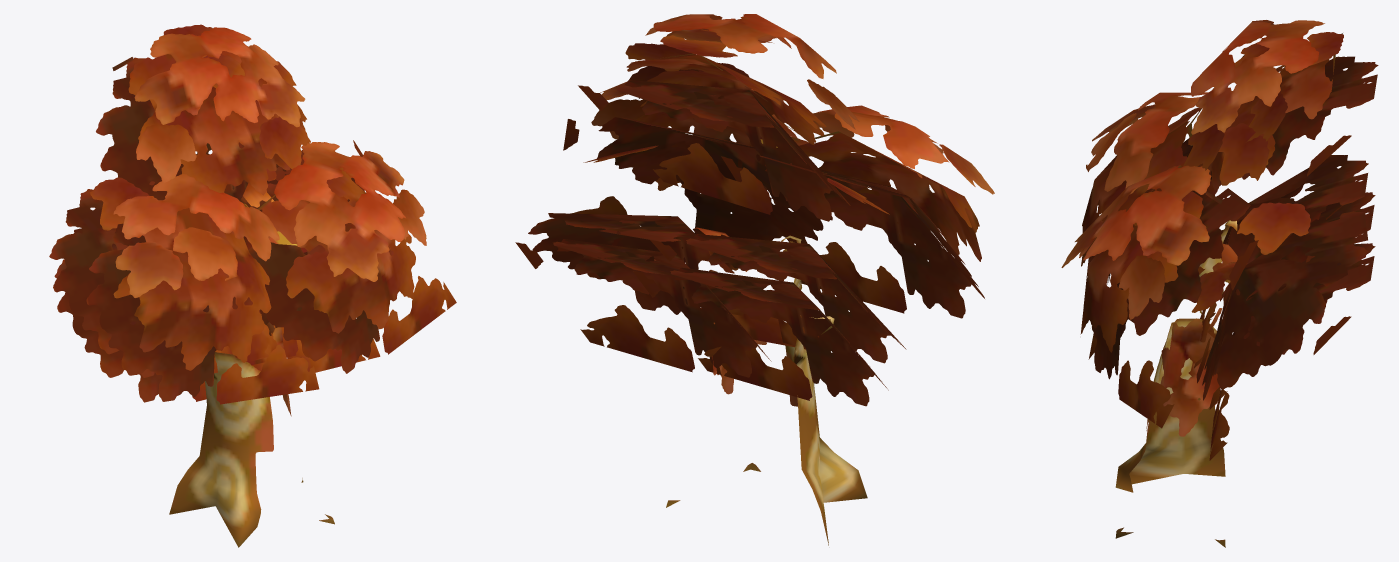
The model's file is fg_treeA_3.dae.
The picture shows the model from 3 angles, left to right: view 1: azimuth 30°, elevation 25°; view 2: azimuth 150°, elevation 25°; view 3: azimuth 270°, elevation 25°; orthographic projection. The views are drawn at different scales.
Visible parts, largest first — view 1: vsn_mesh_0_; view 2: vsn_mesh_0_; view 3: vsn_mesh_0_.
Part boxes in pixels (x1,y1,x2,y2): vsn_mesh_0_: [49, 24, 456, 547]; vsn_mesh_0_: [515, 14, 994, 545]; vsn_mesh_0_: [1061, 20, 1378, 547].
Size of the model in its own units: 67.73 by 77.29 by 48.33.
